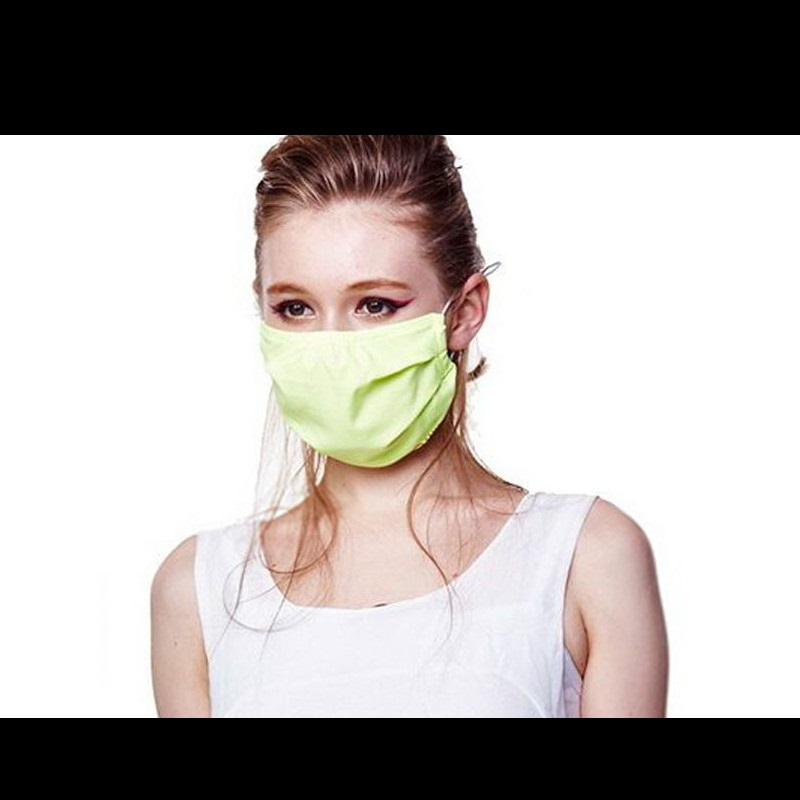face_mask: (256, 191, 446, 449)
